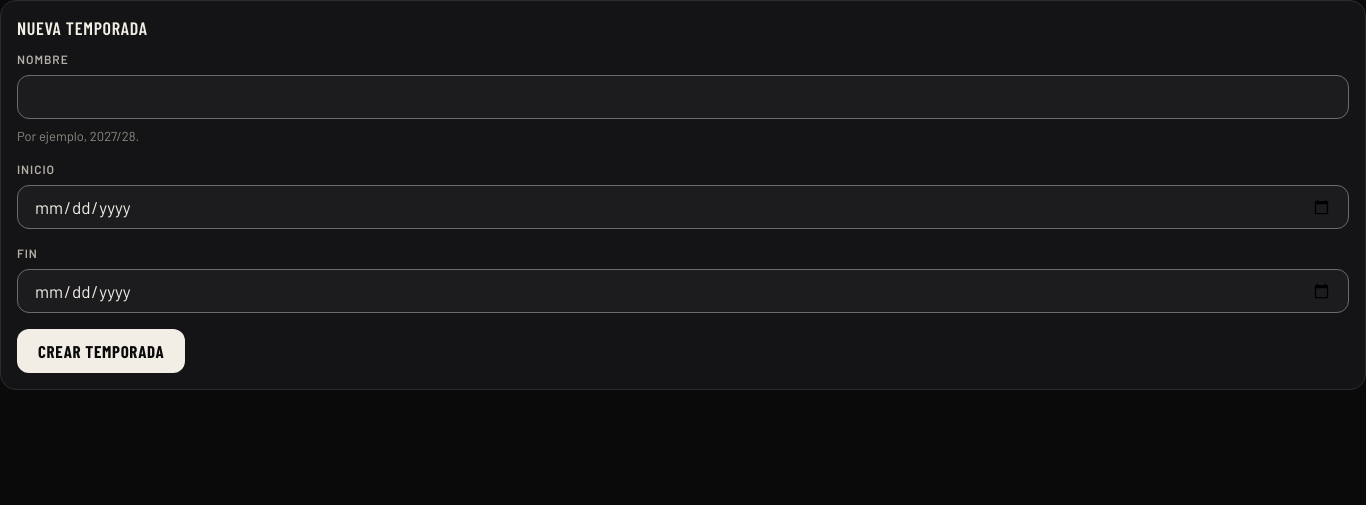
Test: SeasonEditor · una temporada nueva › lo que se manda vacío viaja vacío: lo rechaza la acción, con su mensaje
Step 1. Click the button "Crear temporada" → click(101, 351), box [17,329,185,373]
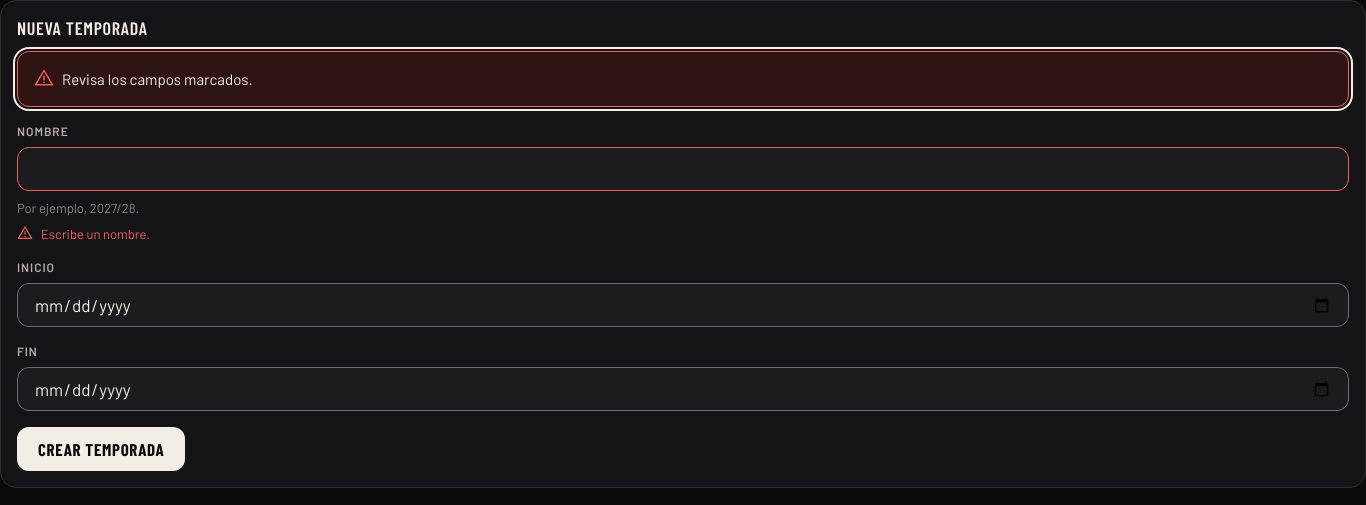
Expected: the text "Escribe un nombre." is shown, [17,225,150,242]
